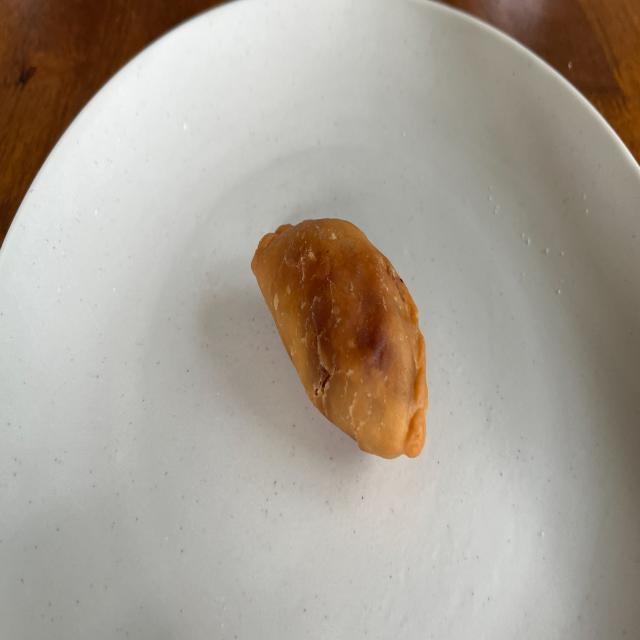karipap: (251, 218, 428, 458)
